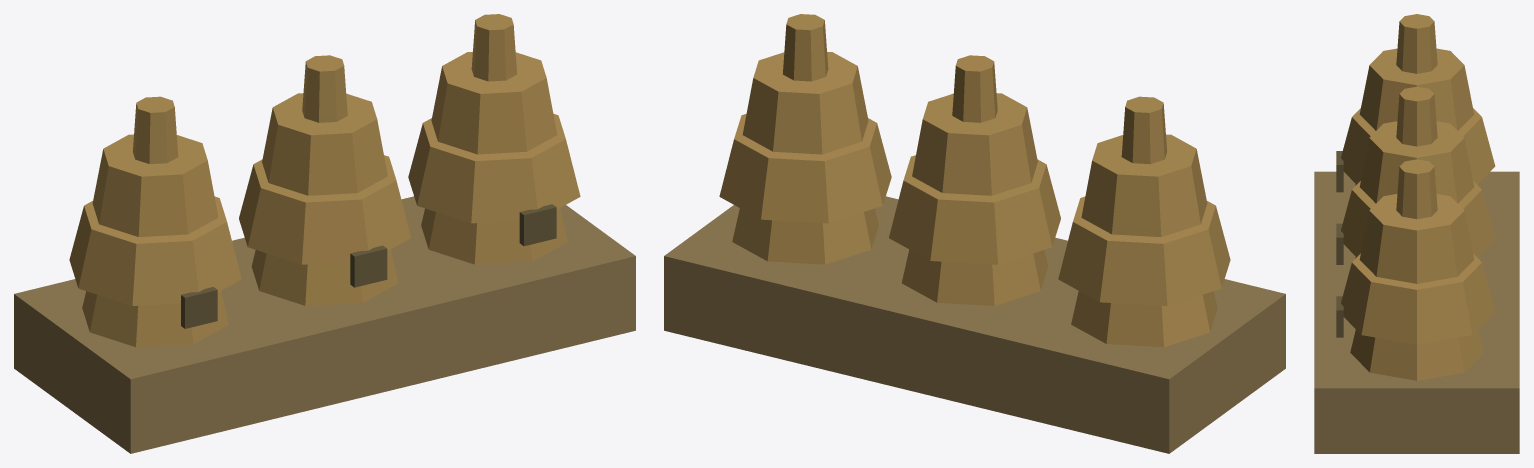
Rendered from map-exclusive-v3__farm_11.glb.
3 renders of one model, left to right at view 1: azimuth 30°, elevation 25°; view 2: azimuth 150°, elevation 25°; view 3: azimuth 270°, elevation 25°, orthographic. The views are drawn at different scales.
Visible parts, largest first — view 1: farm_11; view 2: farm_11; view 3: farm_11.
Boxes of the visible parts, box(x1,y1,x2,y2) form: farm_11: box(14, 14, 635, 453); farm_11: box(664, 14, 1285, 453); farm_11: box(1314, 14, 1519, 453).
Size of the model in its own units: 1.7 by 0.92 by 0.68.
